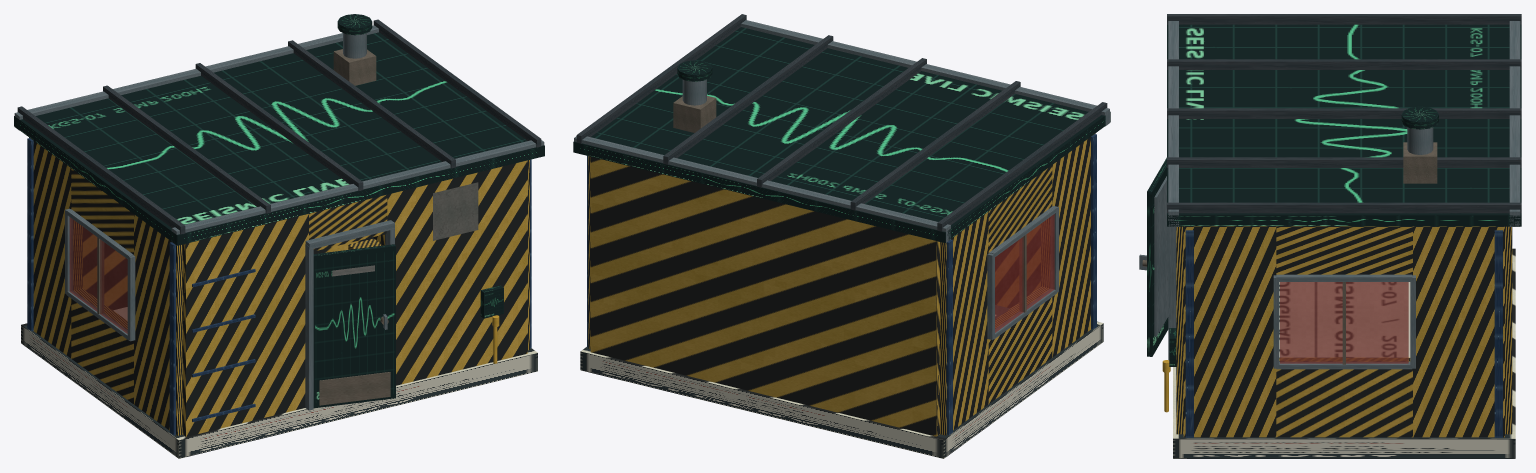
File: PZ_Reinforced_Research_Hut.glb
The picture shows the model from 3 angles, left to right: view 1: azimuth 30°, elevation 25°; view 2: azimuth 150°, elevation 25°; view 3: azimuth 270°, elevation 25°; orthographic projection. The views are drawn at different scales.
Parts seen in each view (by area): view 1: R_Roof_Weatherproof_Deck, R_Front_Wall_Left, R_Front_Wall_Right, R_Door_Solid_Steel_Leaf, R_Foundation_Slab, R_L_Side_Wall_Forward, R_L_Side_Wall_Back, R_L_Tinted_Glazing, R_L_Window_Sill_Wall, R_Roof_Edge_Trim_0, R_Roof_Edge_Trim_1, R_L_Window_Header_Wall (+22 smaller); view 2: R_Rear_Wall, R_Roof_Weatherproof_Deck, R_Foundation_Slab, R_L_Side_Wall_Back, R_L_Side_Wall_Forward, R_L_Tinted_Glazing, R_L_Window_Sill_Wall, R_Roof_Edge_Trim_1, R_Roof_Edge_Trim_0, R_L_Window_Header_Wall, R_Front_Wall_Left, R_Roof_Rib_0 (+15 smaller); view 3: R_Roof_Weatherproof_Deck, R_Foundation_Slab, R_R_Side_Wall_Forward, R_R_Side_Wall_Back, R_R_Tinted_Glazing, R_R_Window_Sill_Wall, R_R_Window_Header_Wall, R_Roof_Rib_4, R_Roof_Rib_1, R_Roof_Rib_0, R_Roof_Rib_3, R_Roof_Rib_2 (+16 smaller).
Boxes of the visible parts, left/top/right/bottom form: R_Roof_Weatherproof_Deck: left=14, top=32, right=544, bottom=245; R_Front_Wall_Left: left=182, top=214, right=308, bottom=436; R_Front_Wall_Right: left=381, top=160, right=527, bottom=385; R_Door_Solid_Steel_Leaf: left=313, top=244, right=395, bottom=408; R_Foundation_Slab: left=21, top=307, right=537, bottom=458; R_L_Side_Wall_Forward: left=134, top=214, right=182, bottom=435; R_L_Side_Wall_Back: left=29, top=137, right=82, bottom=358; R_L_Tinted_Glazing: left=69, top=217, right=127, bottom=333; R_L_Window_Sill_Wall: left=71, top=288, right=133, bottom=404; R_Roof_Edge_Trim_0: left=171, top=140, right=544, bottom=245; R_Roof_Edge_Trim_1: left=14, top=25, right=378, bottom=130; R_L_Window_Header_Wall: left=71, top=168, right=133, bottom=254; R_Rear_Wall: left=590, top=157, right=939, bottom=436; R_Roof_Weatherproof_Deck: left=573, top=27, right=1110, bottom=242; R_Foundation_Slab: left=580, top=305, right=1103, bottom=458; R_L_Side_Wall_Back: left=940, top=212, right=988, bottom=435; R_L_Side_Wall_Forward: left=1041, top=133, right=1095, bottom=357; R_L_Tinted_Glazing: left=995, top=214, right=1054, bottom=332; R_L_Window_Sill_Wall: left=988, top=286, right=1052, bottom=403; R_Roof_Edge_Trim_1: left=574, top=136, right=950, bottom=242; R_Roof_Edge_Trim_0: left=741, top=20, right=1109, bottom=126; R_L_Window_Header_Wall: left=988, top=165, right=1052, bottom=252; R_Front_Wall_Left: left=995, top=224, right=1040, bottom=307; R_Roof_Rib_0: left=937, top=102, right=1107, bottom=231; R_Roof_Weatherproof_Deck: left=1167, top=24, right=1521, bottom=226; R_Foundation_Slab: left=1173, top=248, right=1515, bottom=458; R_R_Side_Wall_Forward: left=1183, top=226, right=1276, bottom=437; R_R_Side_Wall_Back: left=1413, top=226, right=1504, bottom=437; R_R_Tinted_Glazing: left=1280, top=282, right=1408, bottom=363; R_R_Window_Sill_Wall: left=1276, top=357, right=1412, bottom=437; R_R_Window_Header_Wall: left=1276, top=226, right=1412, bottom=275; R_Roof_Rib_4: left=1167, top=202, right=1521, bottom=213; R_Roof_Rib_1: left=1167, top=59, right=1521, bottom=69; R_Roof_Rib_0: left=1167, top=14, right=1521, bottom=24; R_Roof_Rib_3: left=1167, top=157, right=1521, bottom=167; R_Roof_Rib_2: left=1167, top=108, right=1521, bottom=118.
Size of the model in its own units: 5.16 by 3.81 by 4.28.
2 materials, 2 textured.
